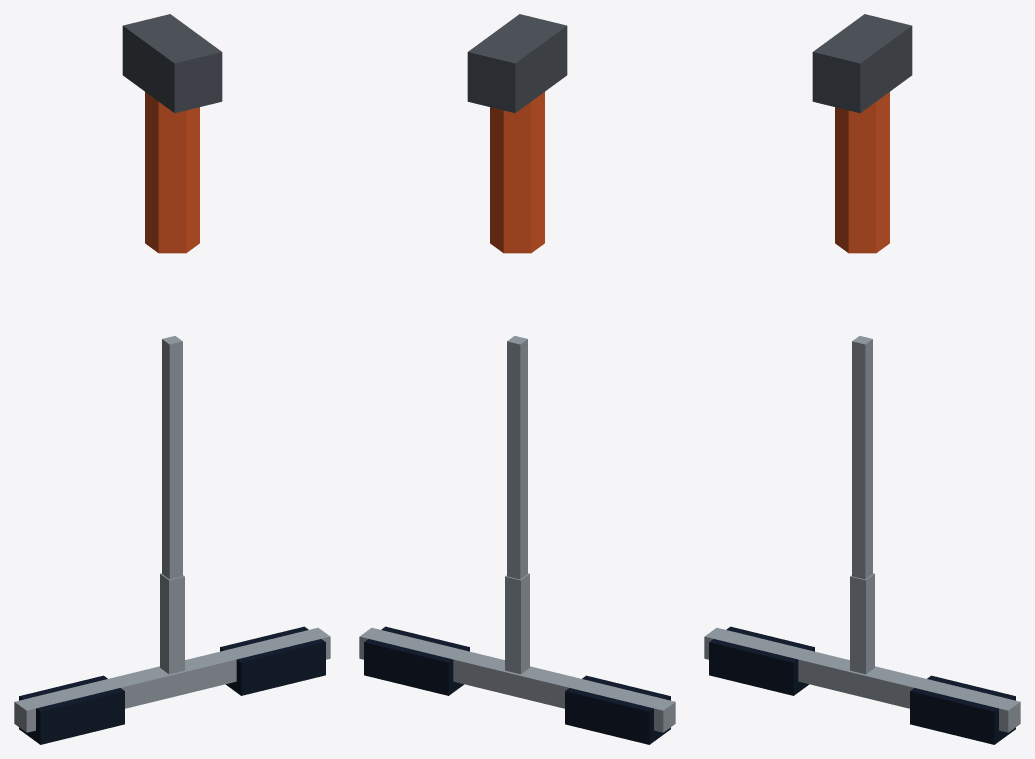
Rendered from t-bar.glb.
3 views of the same model, side by side, from view 1: azimuth 30°, elevation 25°; view 2: azimuth 150°, elevation 25°; view 3: azimuth 330°, elevation 25° (orthographic).
Visible parts, largest first — view 1: t-bar; view 2: t-bar; view 3: t-bar.
Boxes of the visible parts, x1=… form: t-bar: x1=14, y1=14, x2=330, y2=744; t-bar: x1=359, y1=14, x2=675, y2=744; t-bar: x1=704, y1=14, x2=1020, y2=744.
Size of the model in its own units: 1.15 by 2.4 by 0.34.
